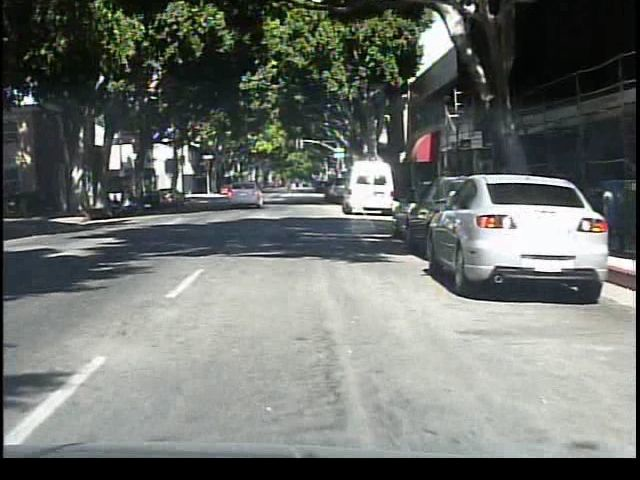person: (279, 170, 299, 203)
